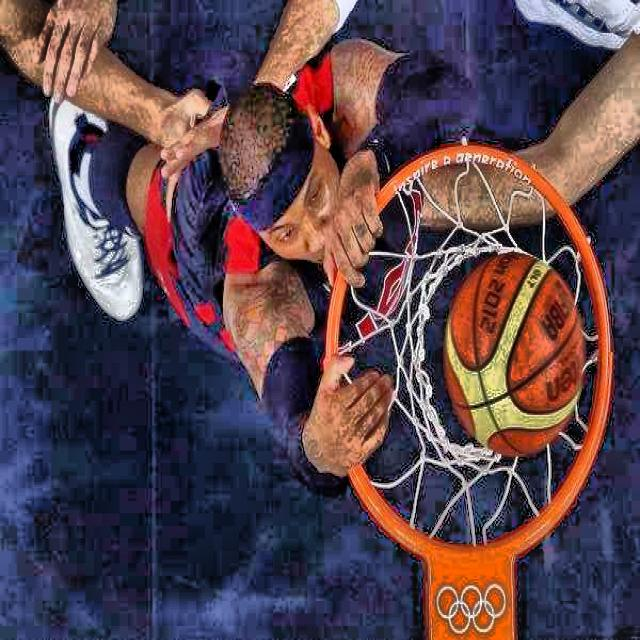board: (443, 251, 584, 456)
